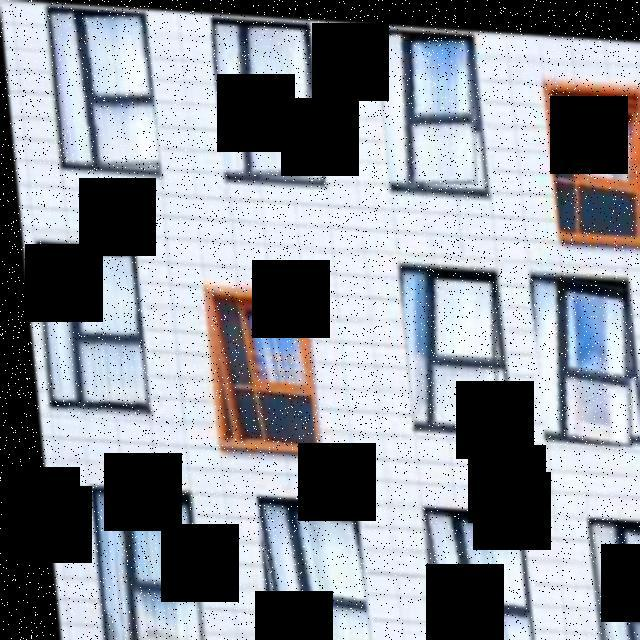Window: (524, 266, 637, 440), (31, 242, 141, 413), (394, 262, 504, 428), (49, 7, 158, 172), (210, 21, 320, 181), (198, 285, 308, 445), (376, 27, 484, 186), (81, 487, 189, 640), (245, 496, 358, 640), (412, 502, 520, 640), (546, 82, 640, 230), (581, 514, 640, 640)
